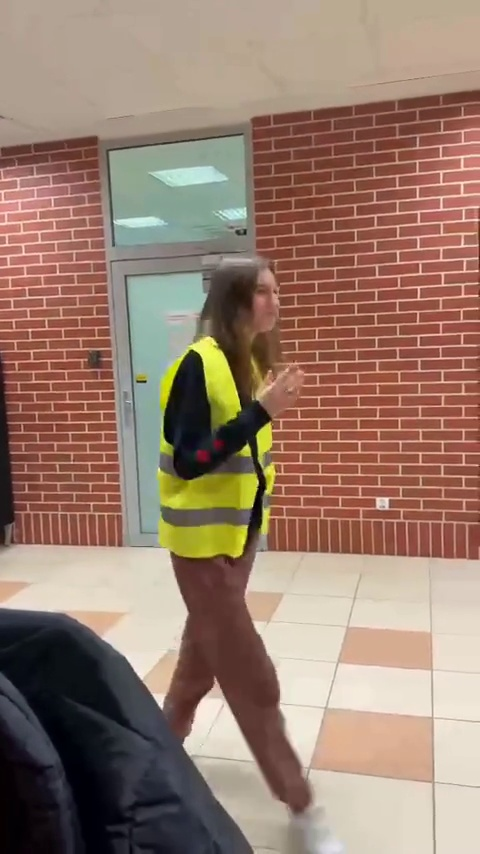vest: (157, 264, 325, 842)
